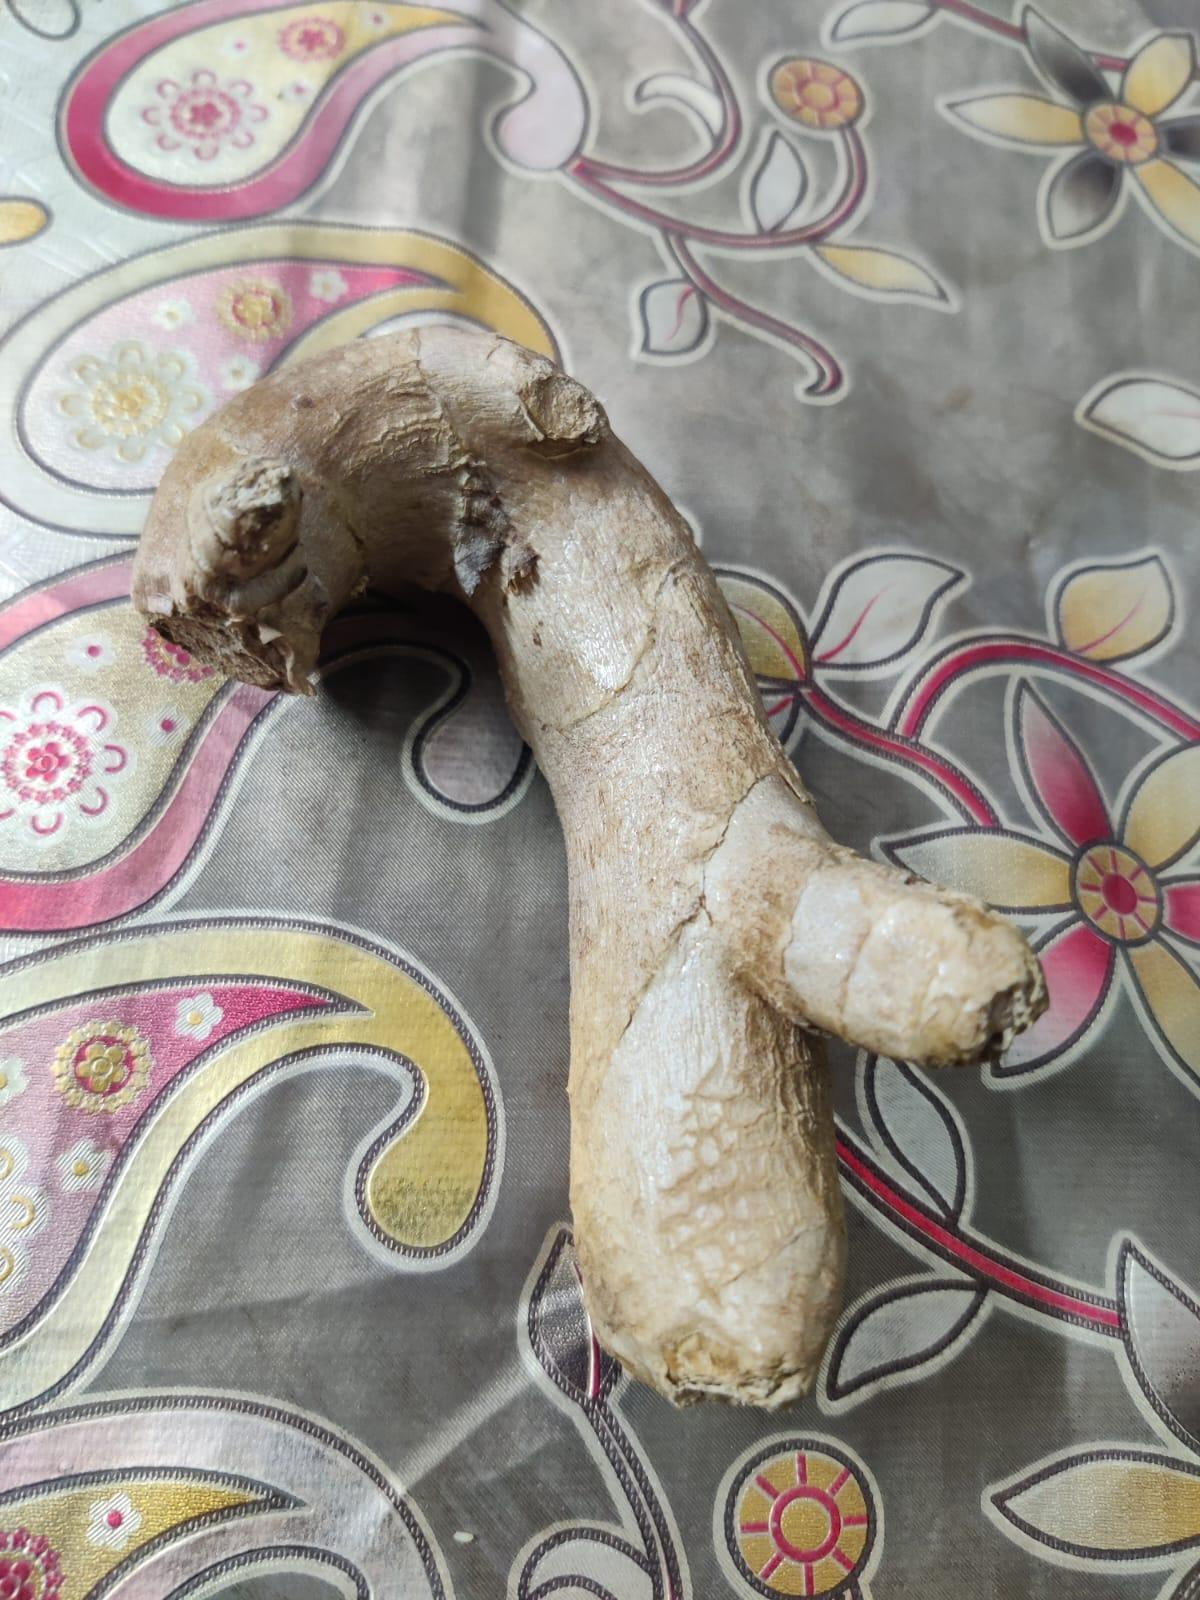non-mango: (130, 306, 1056, 1411)
